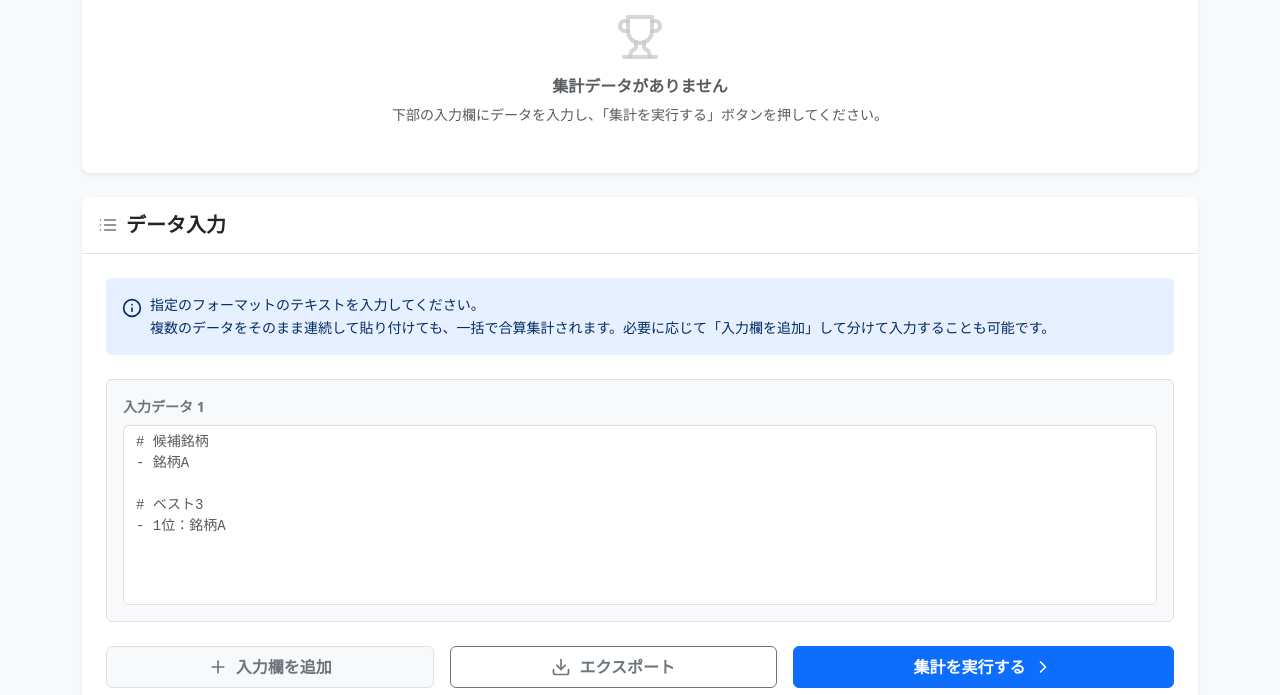
Test case: App › 集計ロジック › 入力欄を削除できる
(page scrolled)
Click the button "入力欄を追加" at (270, 667), box [106, 646, 434, 688]
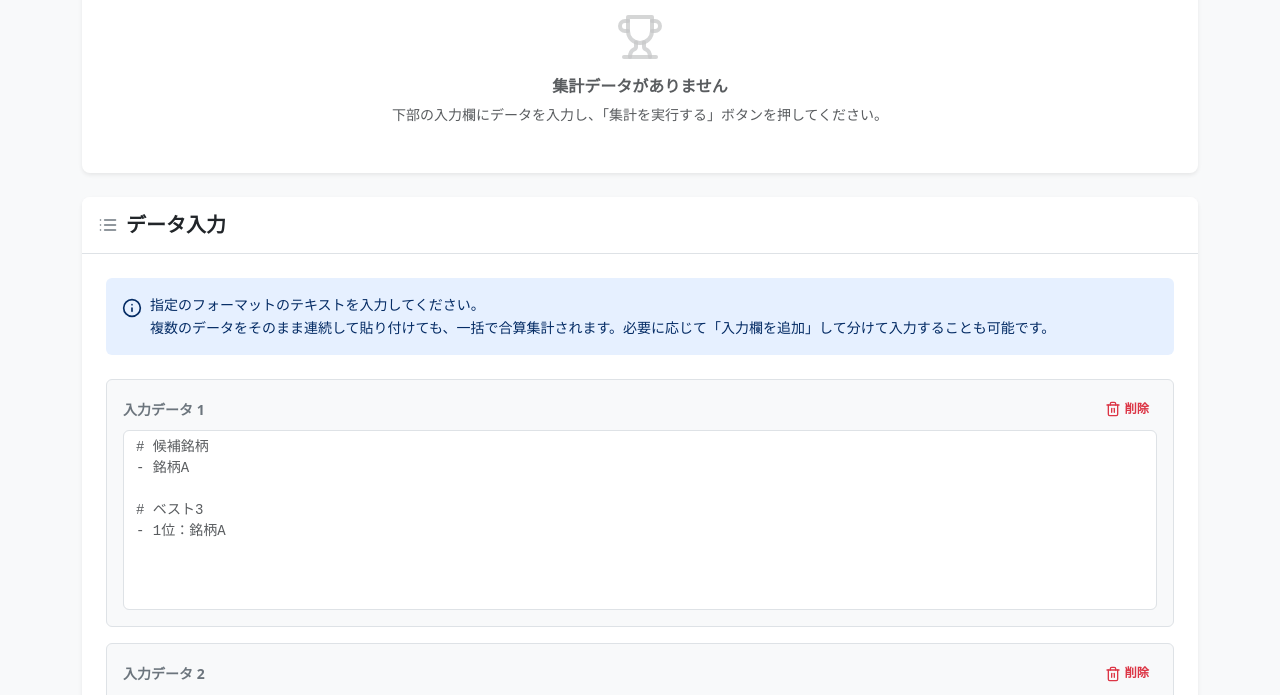
Click the 1st button "削除" at (1127, 409), box [1096, 396, 1157, 422]
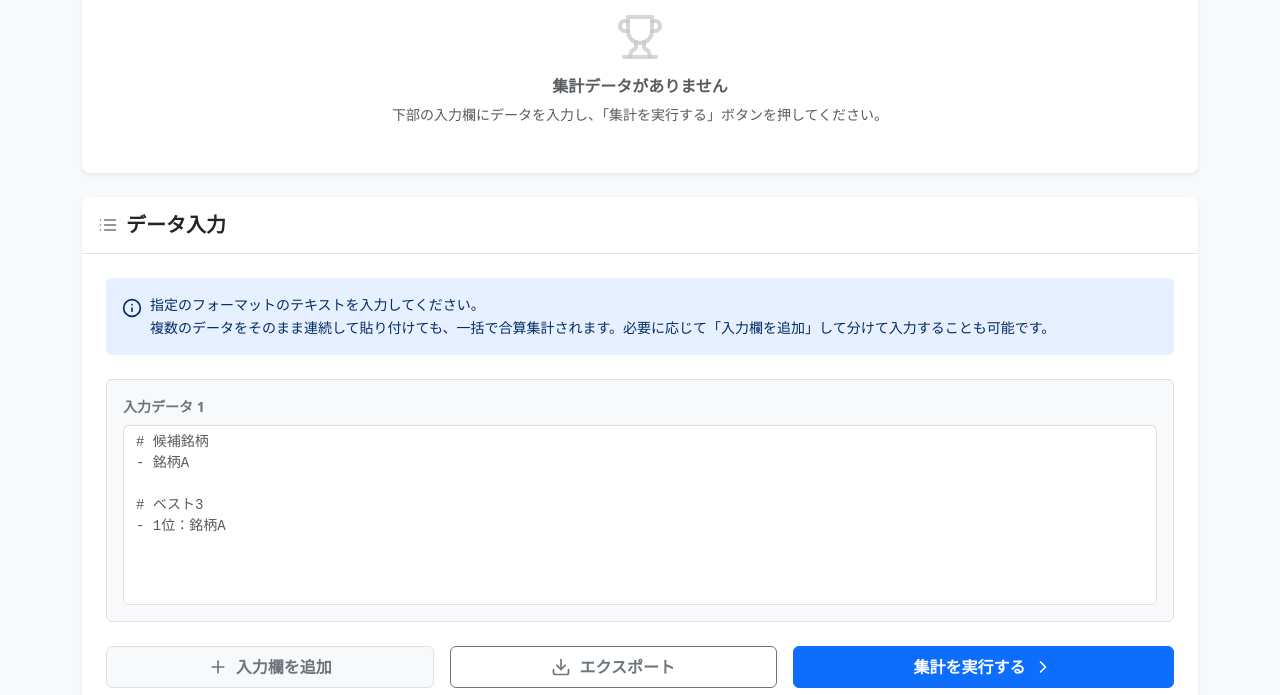
Now the text "入力データ 2" is gone
